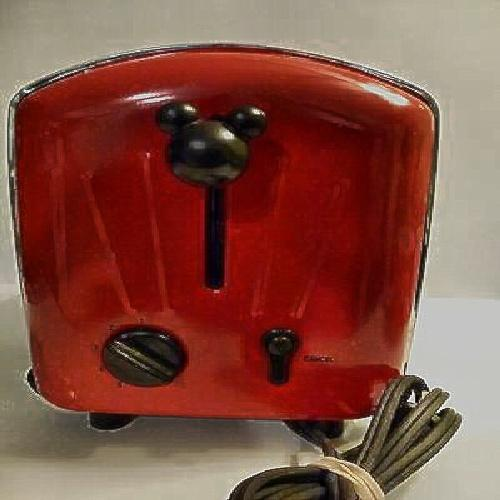toaster: (18, 46, 431, 446)
